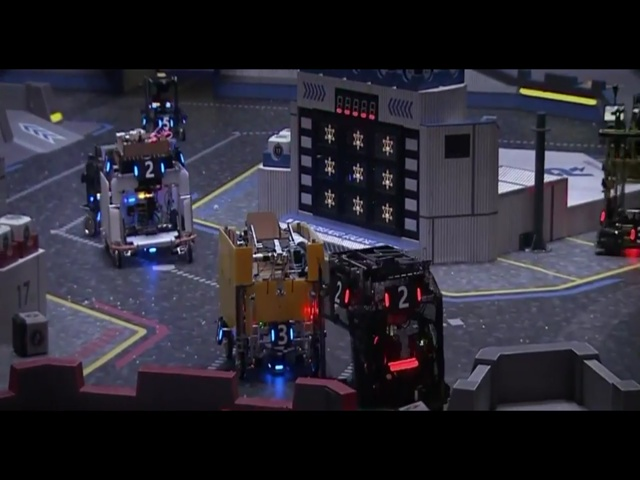plate: (383, 282, 422, 312), (132, 158, 166, 182), (329, 278, 351, 309), (269, 322, 294, 348), (154, 114, 174, 132), (628, 224, 640, 244)
